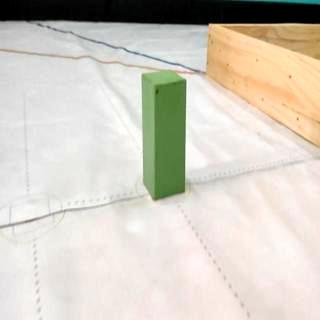greenbox: (140, 69, 188, 202)
